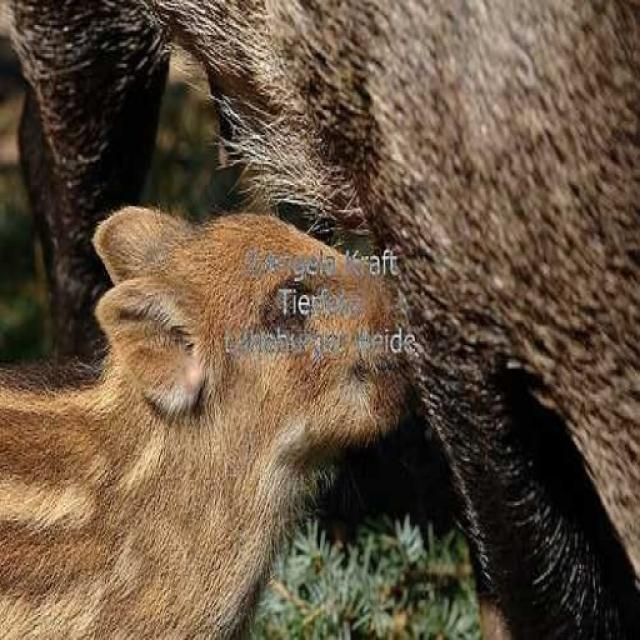pig: (0, 158, 415, 640)
